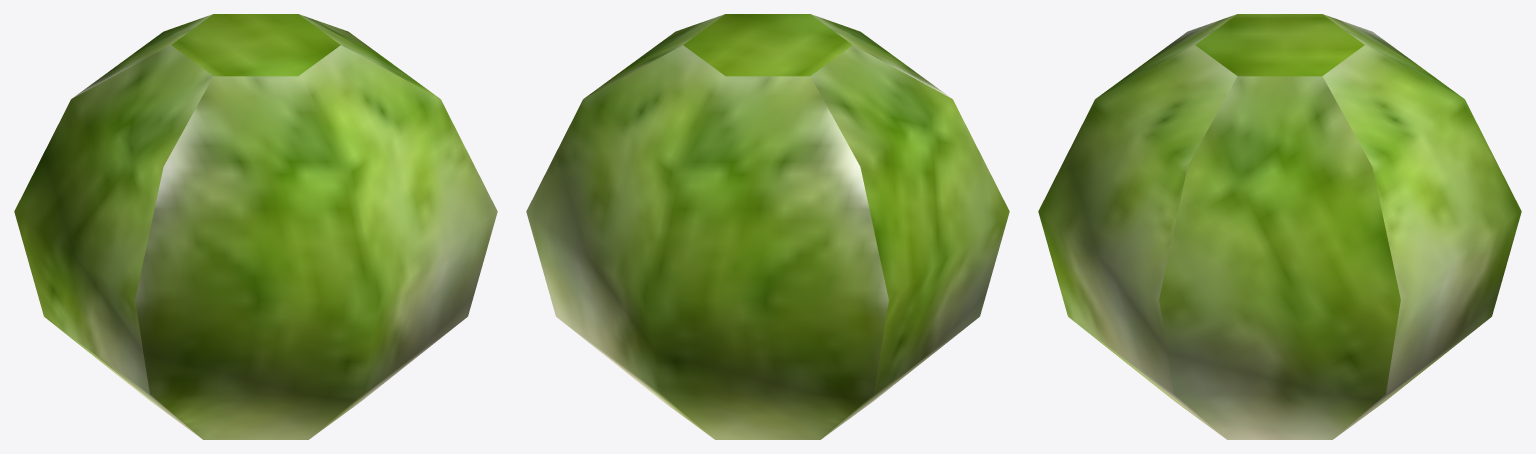
File: food.lettuce.glb
3 views of the same model, side by side, from view 1: azimuth 30°, elevation 25°; view 2: azimuth 150°, elevation 25°; view 3: azimuth 270°, elevation 25° (orthographic).
Visible parts, largest first — view 1: lechuga; view 2: lechuga; view 3: lechuga.
Boxes of the visible parts, x1,y1,x2,y2 form: lechuga: (14, 14, 497, 439); lechuga: (526, 14, 1009, 439); lechuga: (1038, 14, 1521, 439).
Size of the model in its own units: 0.1917 by 0.18 by 0.2214.
1 material, 1 textured.
